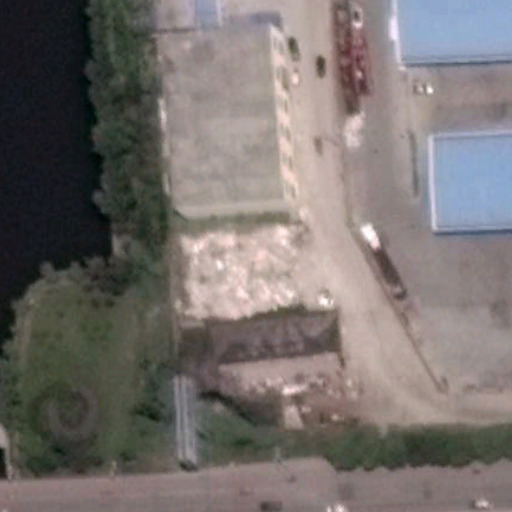msw: (181, 223, 302, 315)
